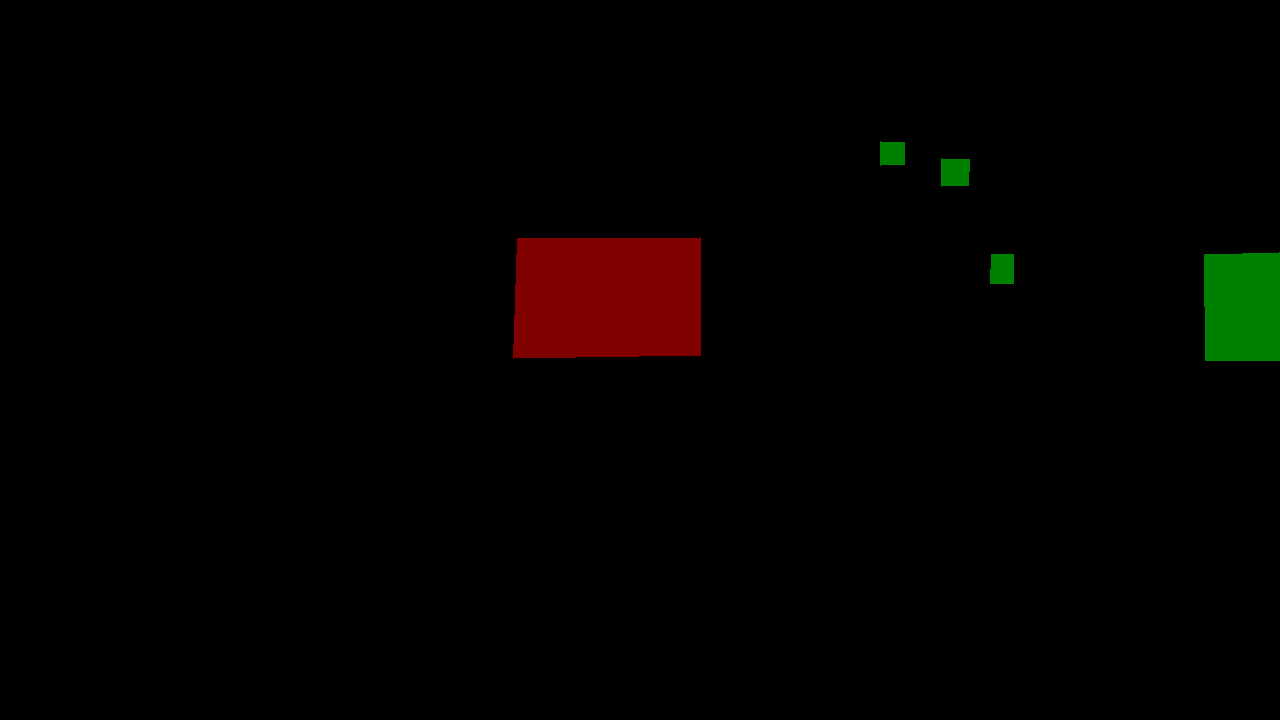sign: (941, 158, 969, 186), (990, 254, 1013, 283), (880, 141, 904, 165)
tvmonitor: (513, 237, 700, 358), (1204, 252, 1279, 360)
